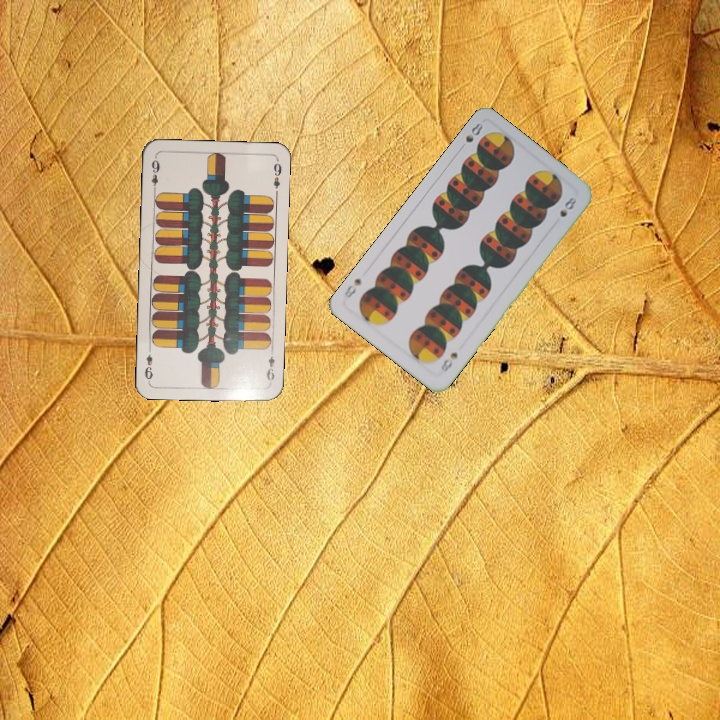E9: (147, 154, 162, 194), (262, 346, 277, 386)
S8: (455, 118, 486, 153), (437, 348, 460, 375)
